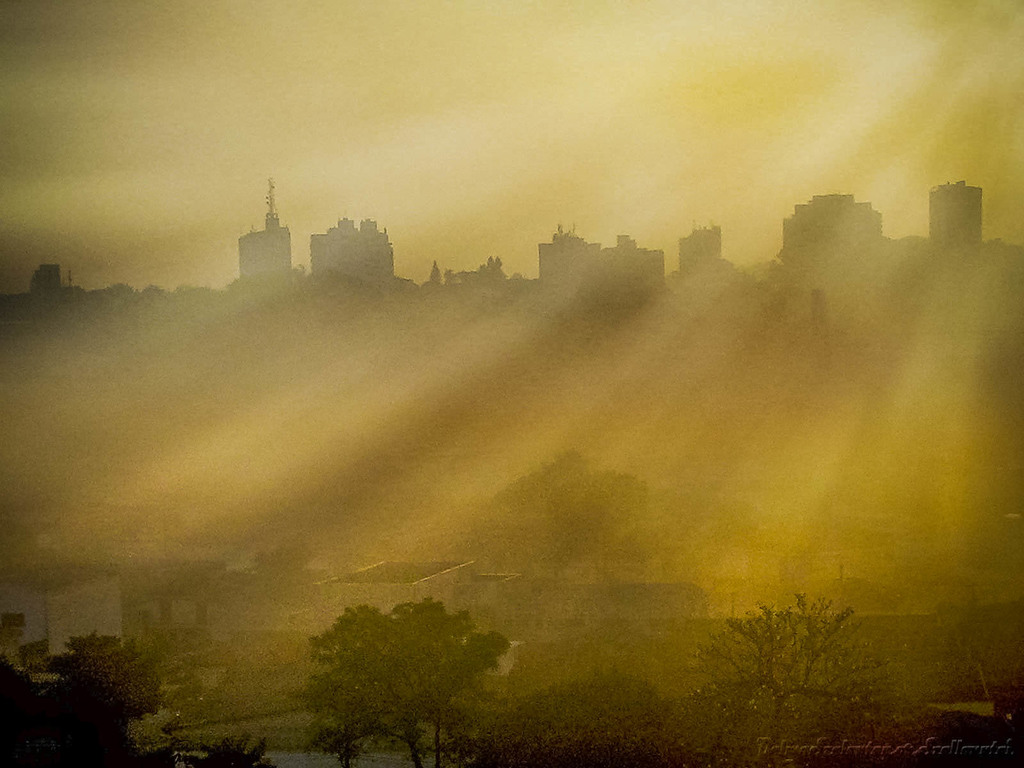Tree: (672, 587, 899, 768), (286, 599, 516, 768), (0, 631, 169, 768), (471, 450, 647, 579), (508, 671, 671, 768), (179, 733, 276, 768)
